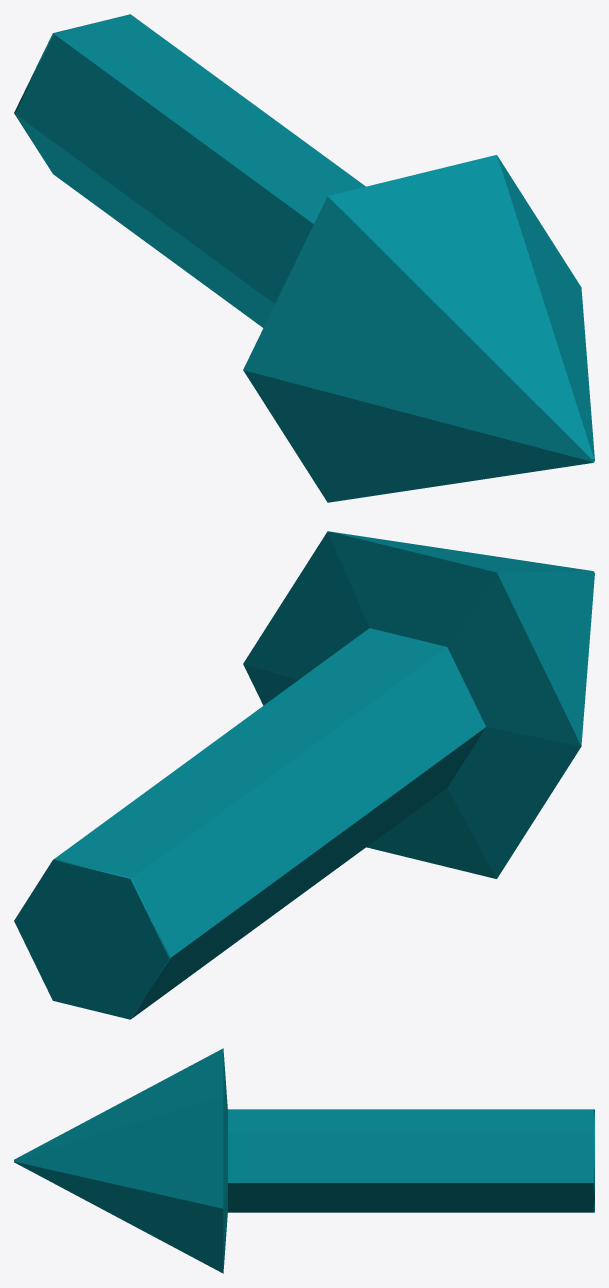
The model's file is arrow.FBX.
3 renders of one model, top to bottom at view 1: azimuth 30°, elevation 25°; view 2: azimuth 150°, elevation 25°; view 3: azimuth 270°, elevation 25°, orthographic. The views are drawn at different scales.
Visible parts, largest first — view 1: Object001; view 2: Object001; view 3: Object001.
Boxes of the visible parts, x1=… form: Object001: x1=14, y1=14, x2=594, y2=502; Object001: x1=14, y1=531, x2=594, y2=1019; Object001: x1=14, y1=1048, x2=594, y2=1273.
Size of the model in its own units: 1.4 by 3.6 by 1.21.
